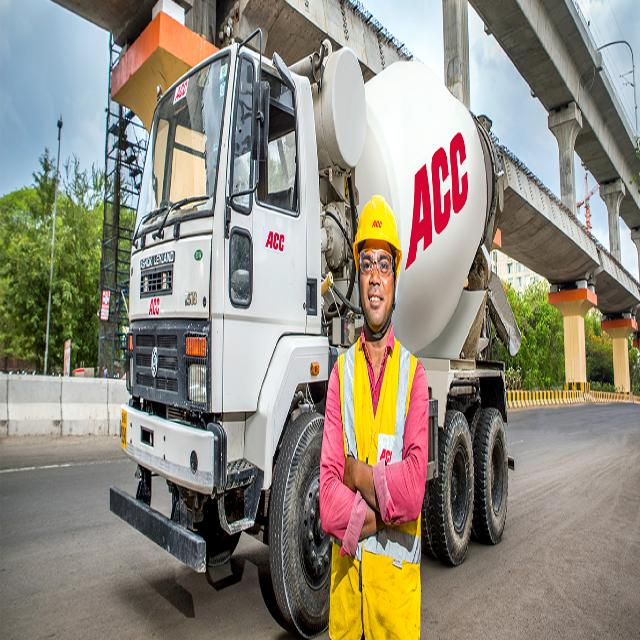truck: (110, 35, 520, 638)
